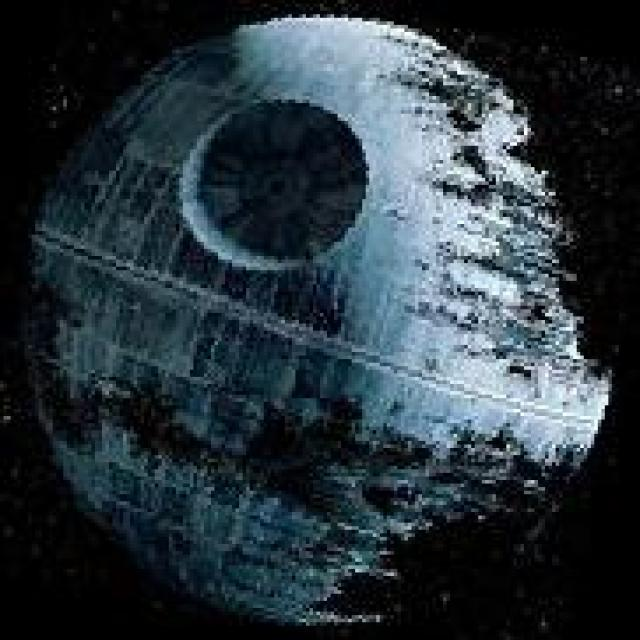Death Star: (14, 11, 622, 610)
